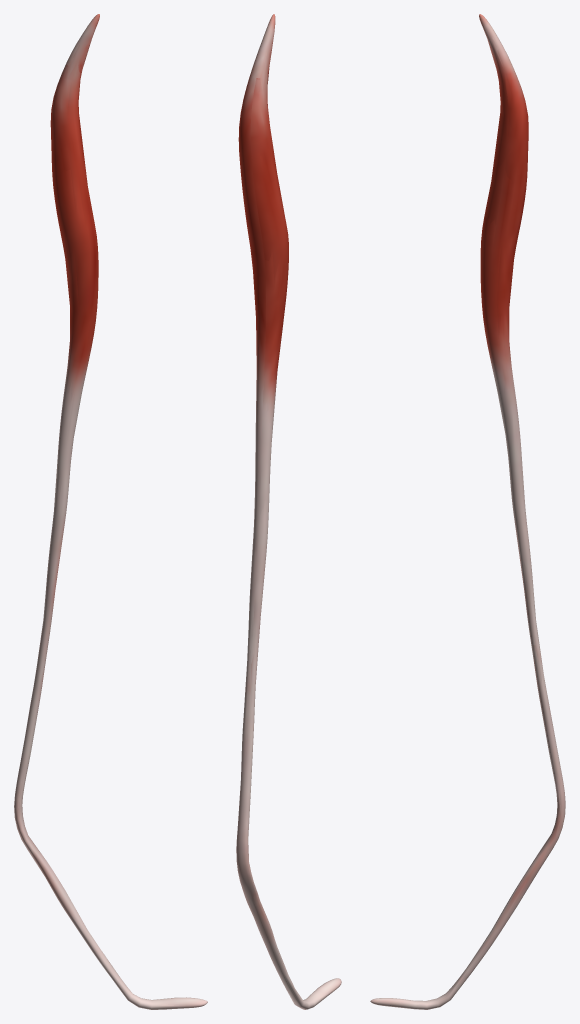
Rendered from R Deep Digital Flexor.fbx.
3 views of the same model, side by side, from view 1: azimuth 90°, elevation 25°; view 2: azimuth 150°, elevation 25°; view 3: azimuth 270°, elevation 25° (orthographic). The views are drawn at different scales.
Visible parts, largest first — view 1: R Deep Digital Flexor, R Deep Digital Flexor low; view 2: R Deep Digital Flexor, R Deep Digital Flexor low; view 3: R Deep Digital Flexor, R Deep Digital Flexor low.
Boxes of the visible parts, x1,y1,x2,y2 form: R Deep Digital Flexor: (14,14,207,1009); R Deep Digital Flexor low: (17,21,203,1008); R Deep Digital Flexor: (236,14,341,1009); R Deep Digital Flexor low: (237,16,341,1008); R Deep Digital Flexor: (370,14,565,1009); R Deep Digital Flexor low: (397,15,564,1009).
Size of the model in its own units: 3.45 by 88.76 by 15.73.
